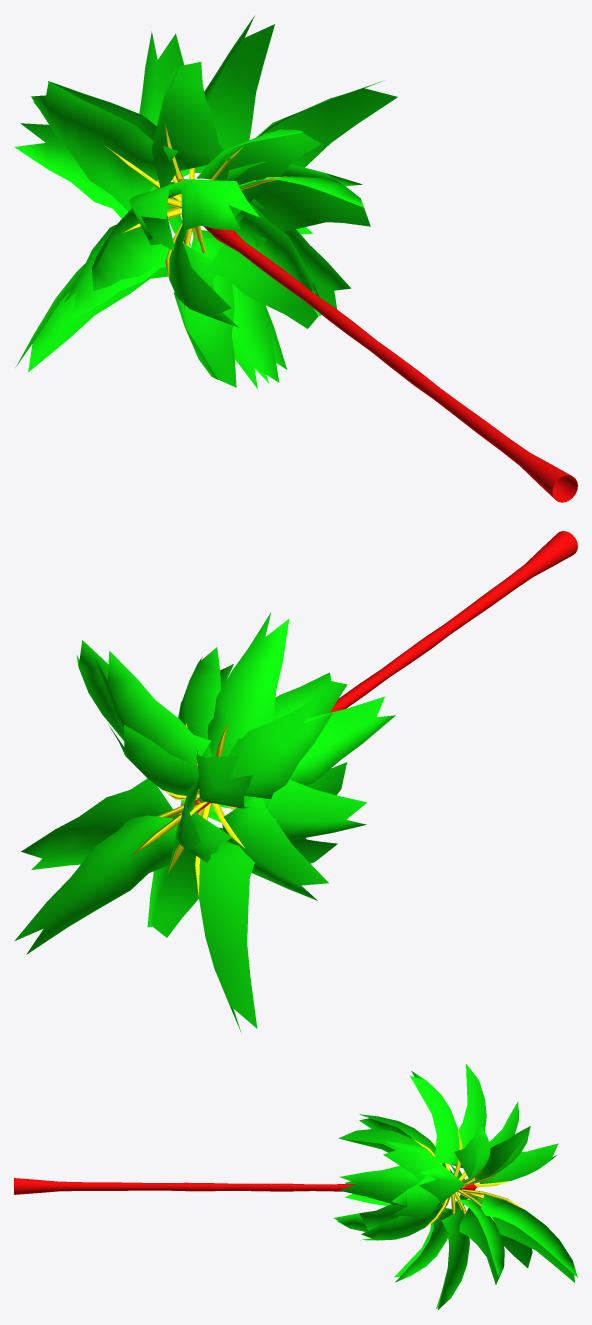
File: M_P10_Tree_11.FBX
The picture shows the model from 3 angles, top to bottom: view 1: azimuth 30°, elevation 25°; view 2: azimuth 150°, elevation 25°; view 3: azimuth 270°, elevation 25°; orthographic projection. The views are drawn at different scales.
Parts seen in each view (by area): view 1: M_P10_Tree_11_LOD0; view 2: M_P10_Tree_11_LOD0; view 3: M_P10_Tree_11_LOD0.
Part boxes in pixels (x1,y1,x2,y2): M_P10_Tree_11_LOD0: [14, 15, 577, 502]; M_P10_Tree_11_LOD0: [14, 531, 577, 1033]; M_P10_Tree_11_LOD0: [14, 1064, 577, 1309].
Size of the model in its own units: 237 by 618 by 258.
